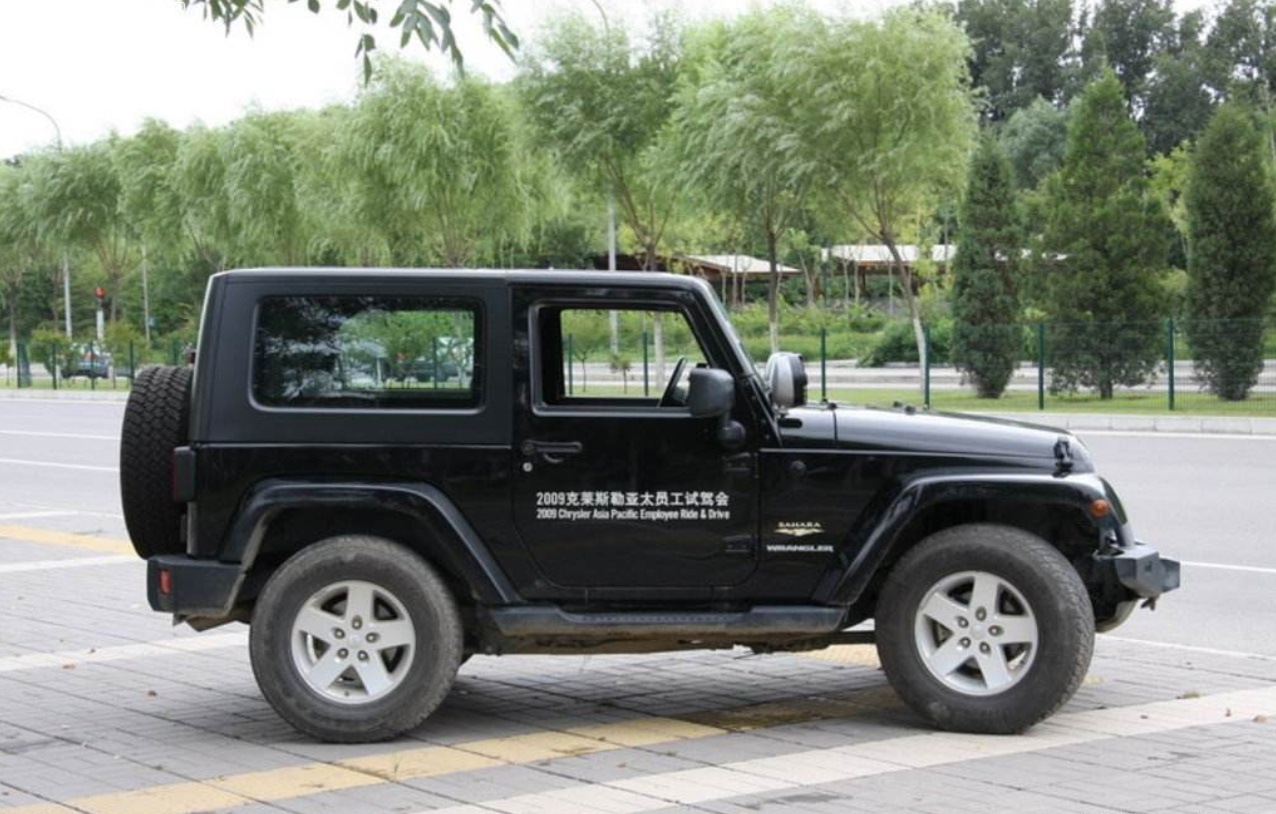jeep: (110, 255, 1162, 737)
